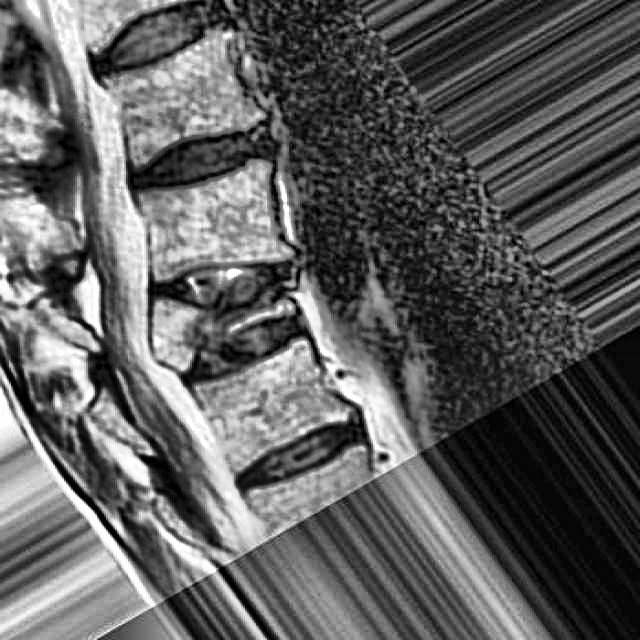Comminuted: (134, 254, 321, 390)
